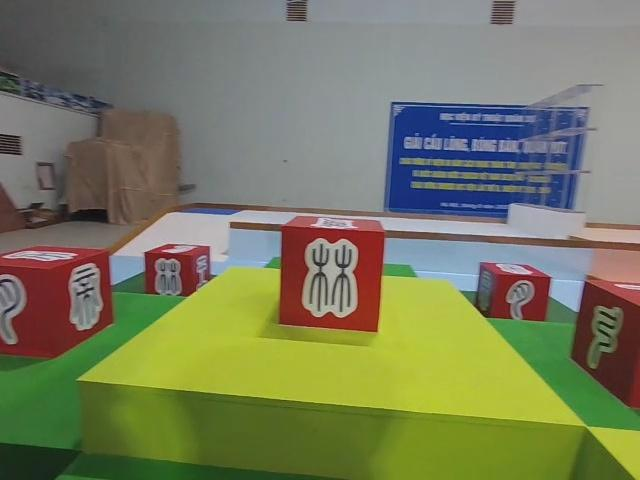R2 Fake: (275, 212, 387, 335), (0, 242, 115, 359), (568, 273, 640, 416), (474, 257, 554, 324), (142, 238, 213, 299)
